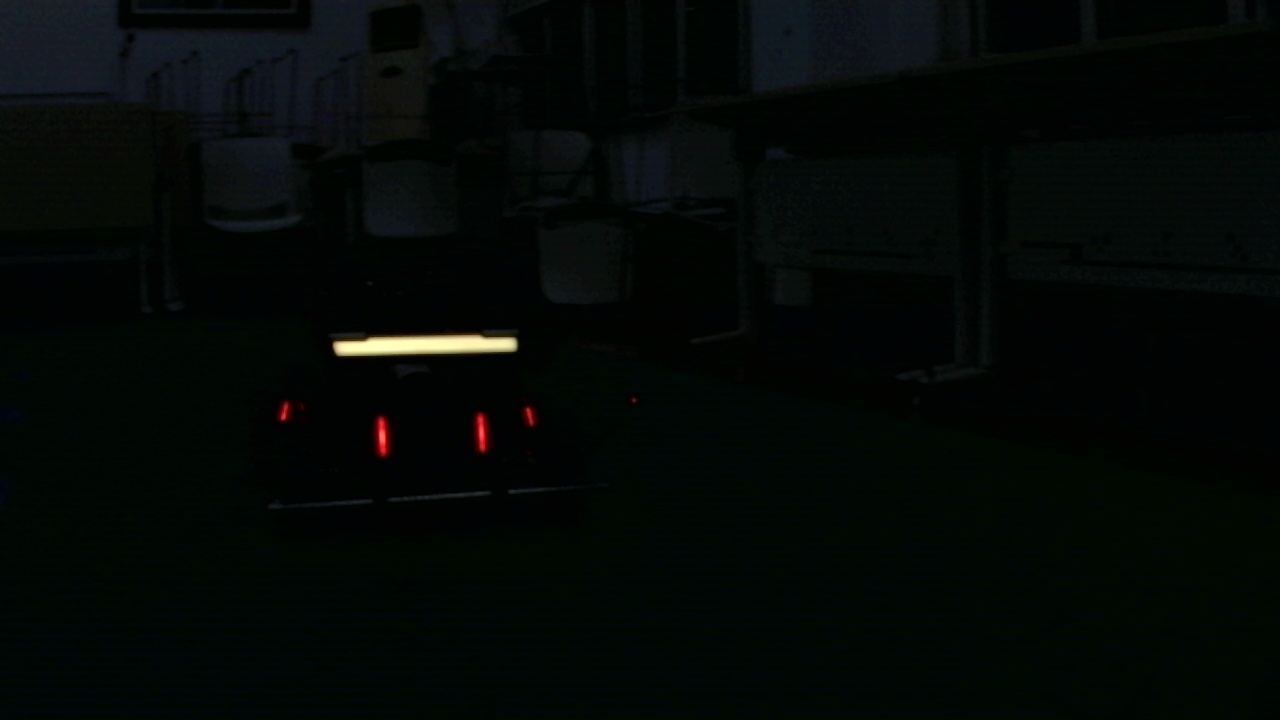lamp: (475, 414, 487, 454), (377, 416, 387, 456)
pair1: (375, 412, 487, 453)
